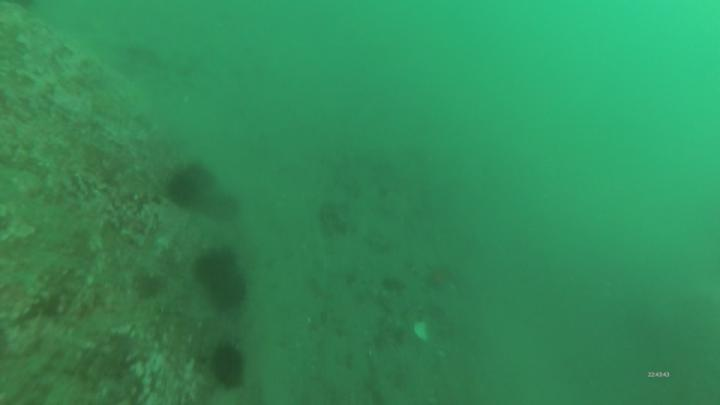echinus: (162, 161, 220, 211), (208, 339, 254, 396), (195, 243, 243, 292), (204, 266, 251, 315)
